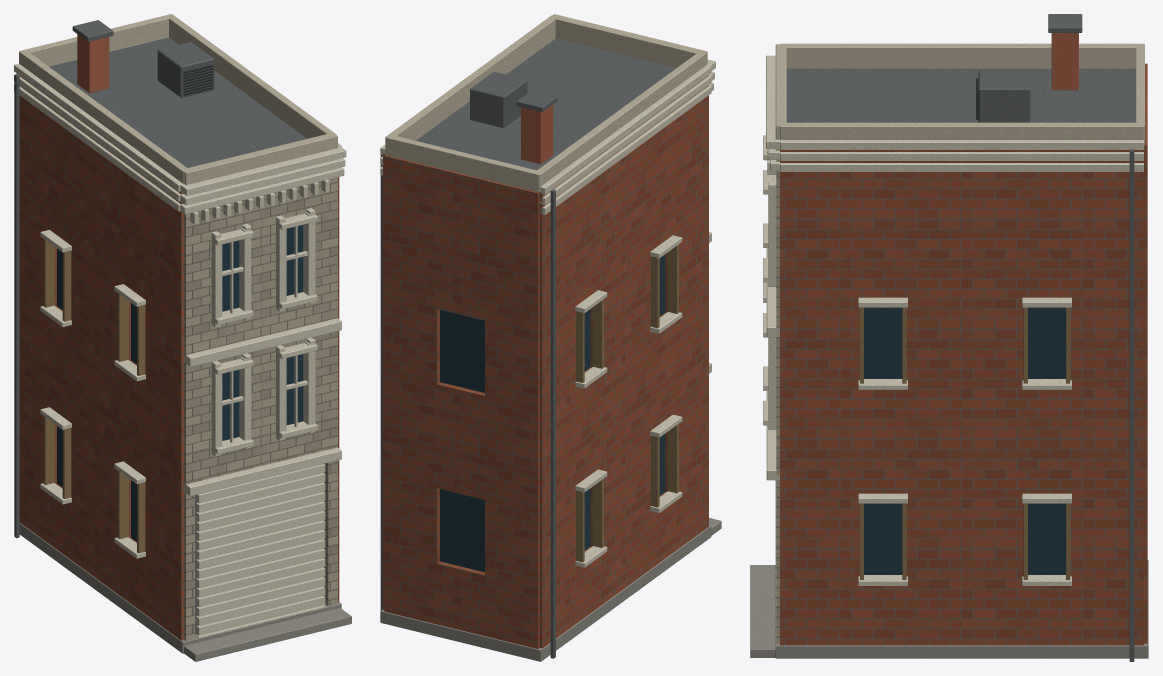
The model's file is WHSE20_lod1.glb.
3 renders of one model, left to right at view 1: azimuth 30°, elevation 25°; view 2: azimuth 150°, elevation 25°; view 3: azimuth 270°, elevation 25°, orthographic. The views are drawn at different scales.
Visible parts, largest first — view 1: WHSE20_LOD1; view 2: WHSE20_LOD1; view 3: WHSE20_LOD1.
Boxes of the visible parts, x1,y1,x2,y2 form: WHSE20_LOD1: (14, 14, 351, 661); WHSE20_LOD1: (380, 14, 721, 661); WHSE20_LOD1: (750, 14, 1148, 661).
Bounding box in the file's own units: 3.71 × 10.45 × 6.57.
11 materials, 9 textured.
